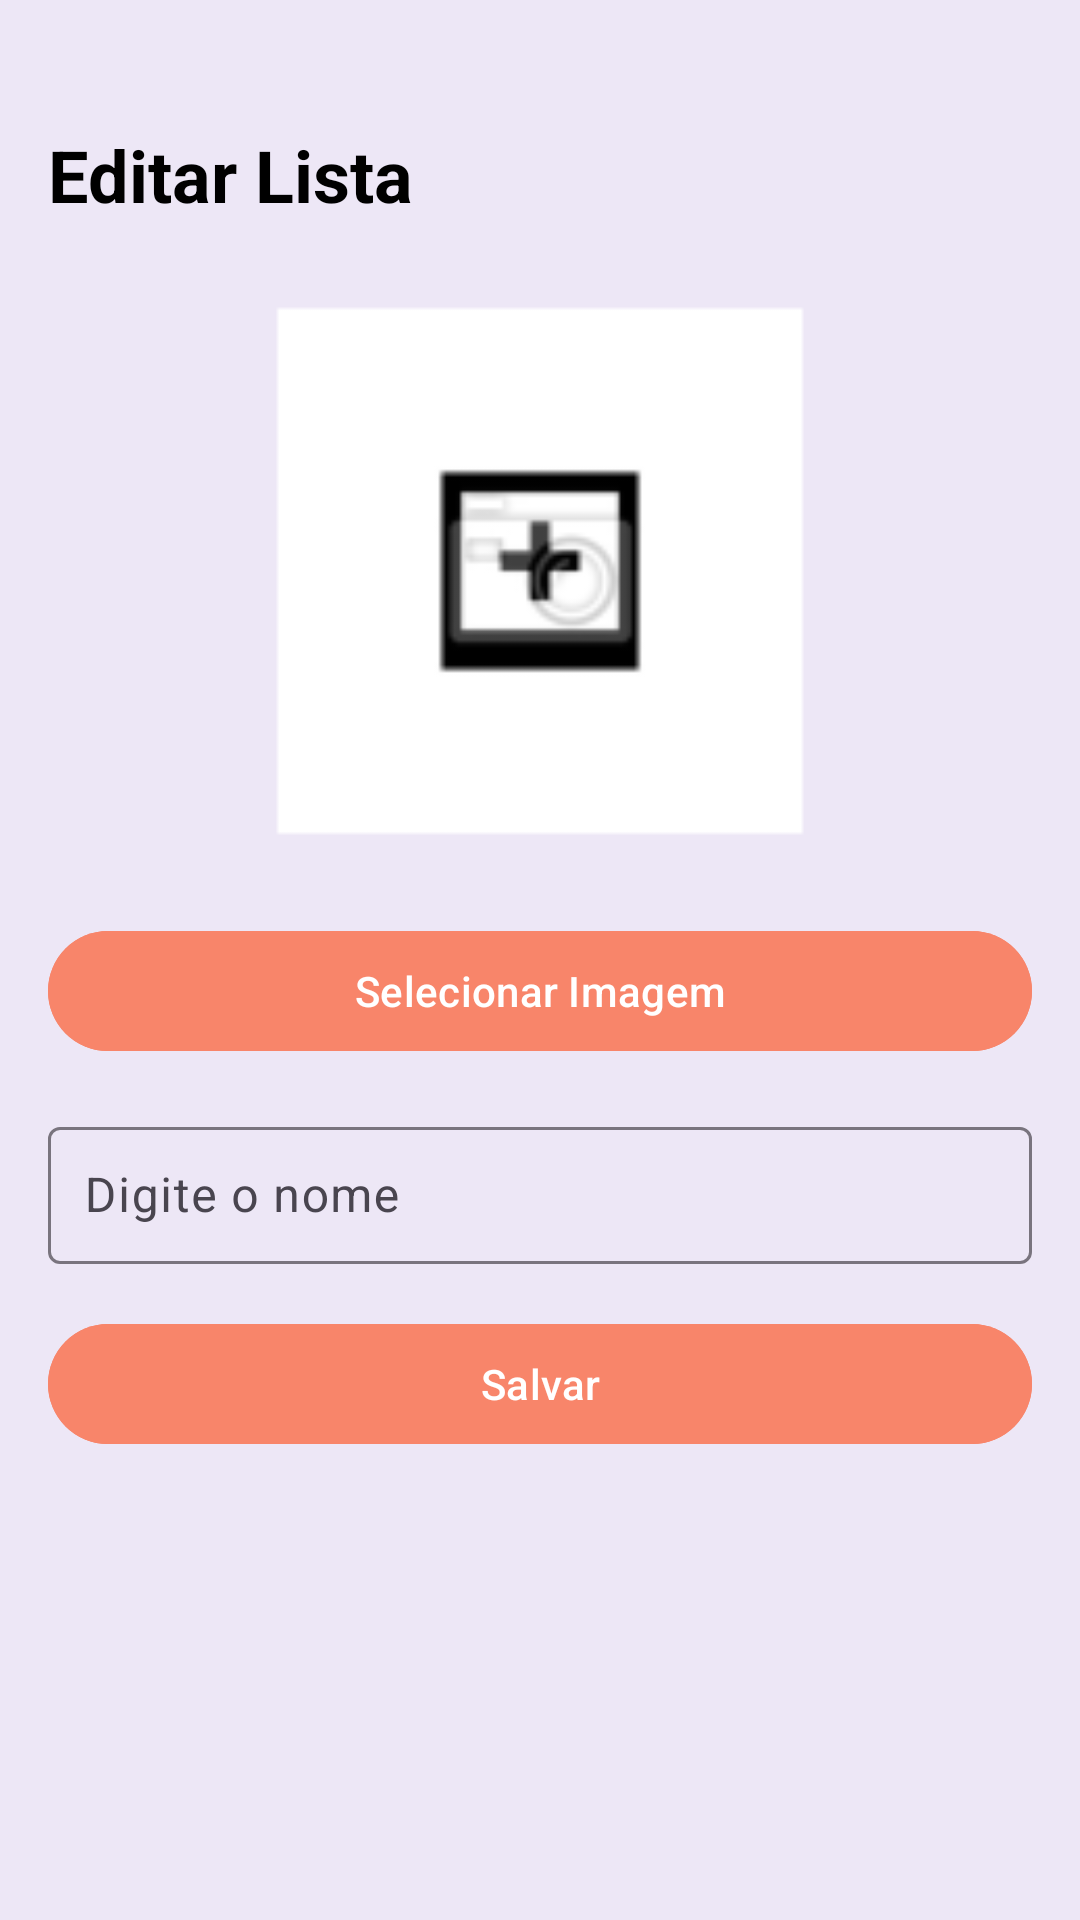

Where to tap for icons on this 1080*1920 app screen, as [x,y]:
Imagem Selecionada: [540,571]
